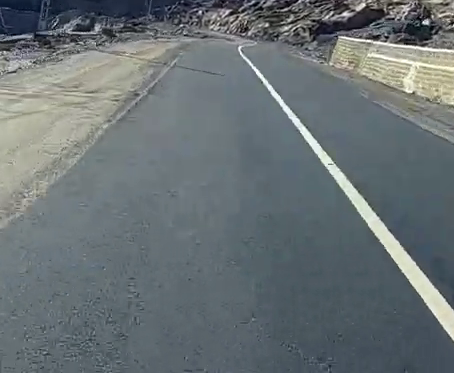left: (191, 80, 450, 317)
